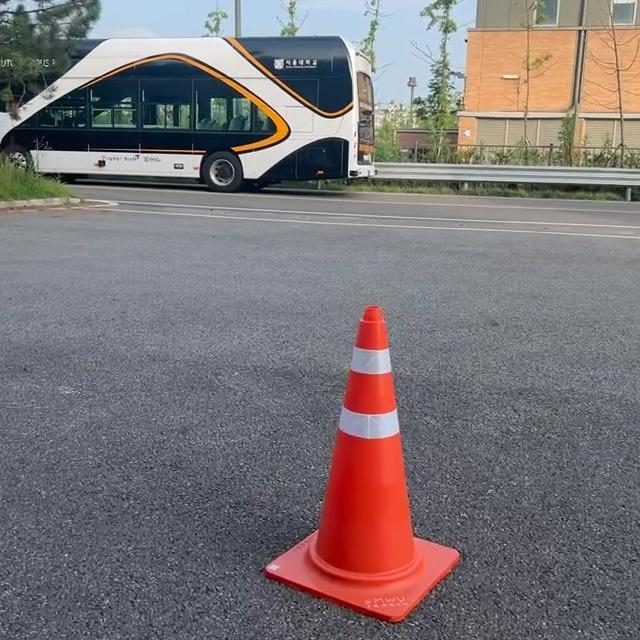fallen_object: (220, 257, 478, 554)
